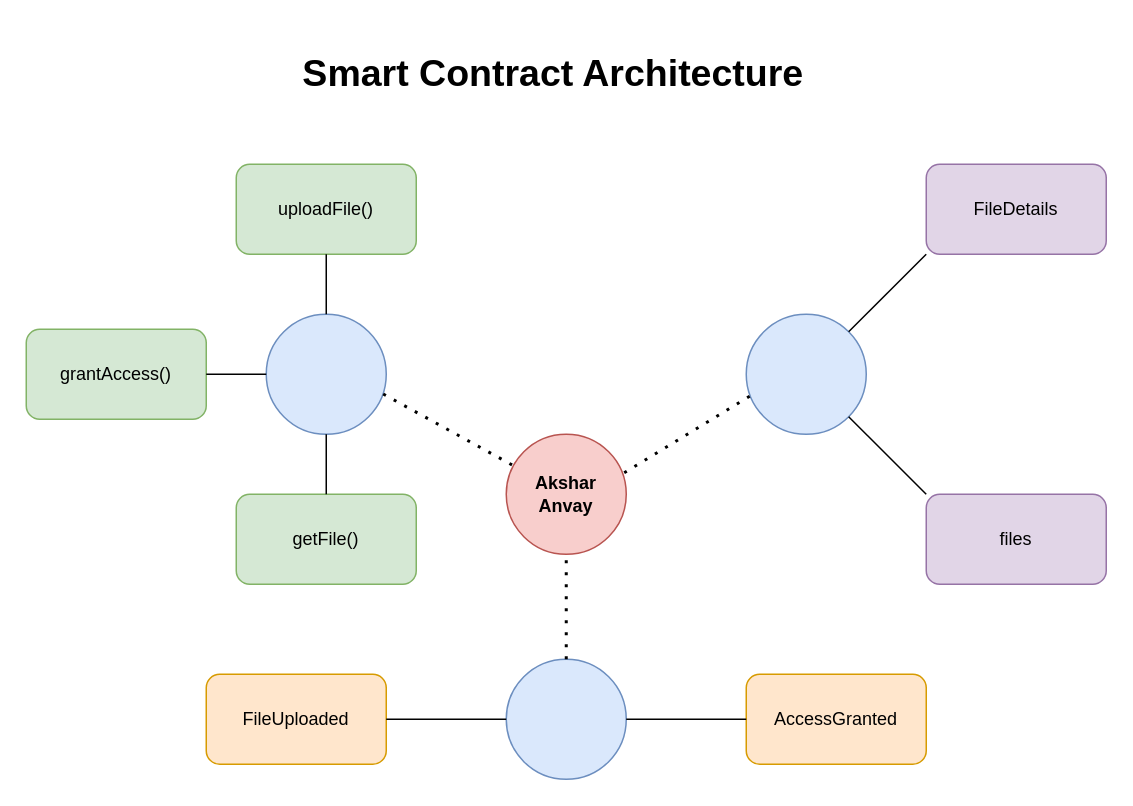
This 1133x806 diagram has some shape labels left out. Each missing label, with the centre of its shape:
"Data Members" goes at pixel 805 373.
"Events" goes at pixel 565 718.
"Functions" goes at pixel 325 373.
